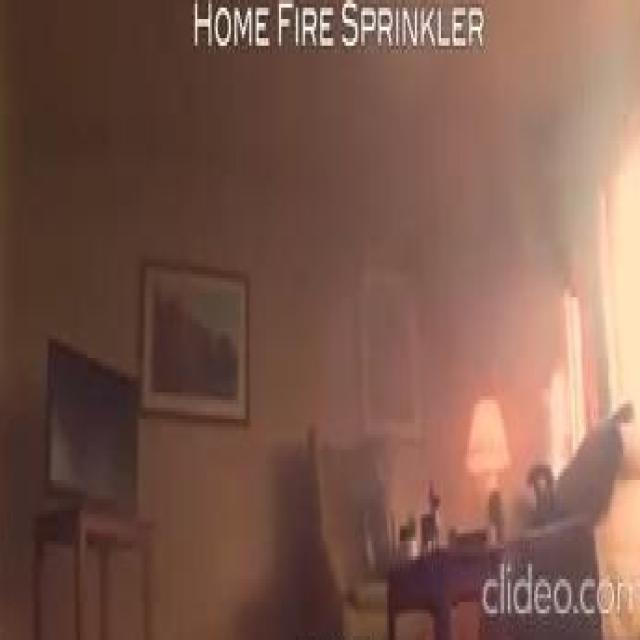smoke: (545, 289, 584, 476)
